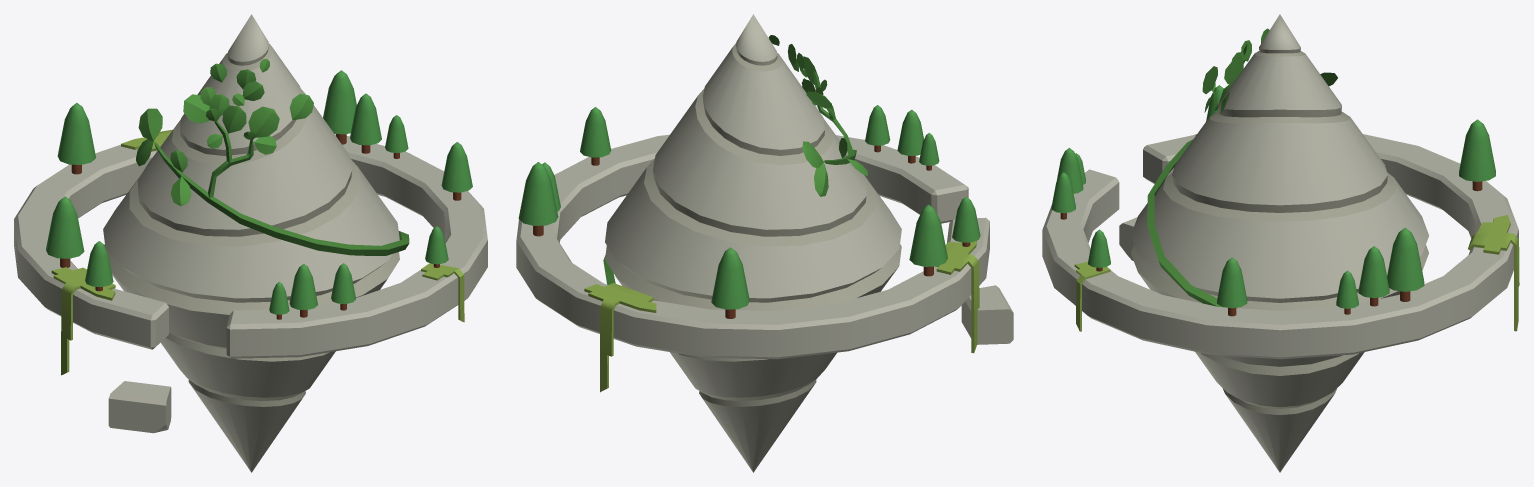
File: Exotic_Planet_Vines.fbx
The picture shows the model from 3 angles, left to right: view 1: azimuth 30°, elevation 25°; view 2: azimuth 150°, elevation 25°; view 3: azimuth 270°, elevation 25°; orthographic projection.
Parts seen in each view (by area): view 1: Planet_Vines_Mesh; view 2: Planet_Vines_Mesh; view 3: Planet_Vines_Mesh.
Boxes of the visible parts, x1=… form: Planet_Vines_Mesh: x1=14, y1=14, x2=487, y2=472; Planet_Vines_Mesh: x1=516, y1=14, x2=1013, y2=472; Planet_Vines_Mesh: x1=1042, y1=14, x2=1519, y2=472.
Size of the model in its own units: 6.21 by 6.61 by 6.22.
